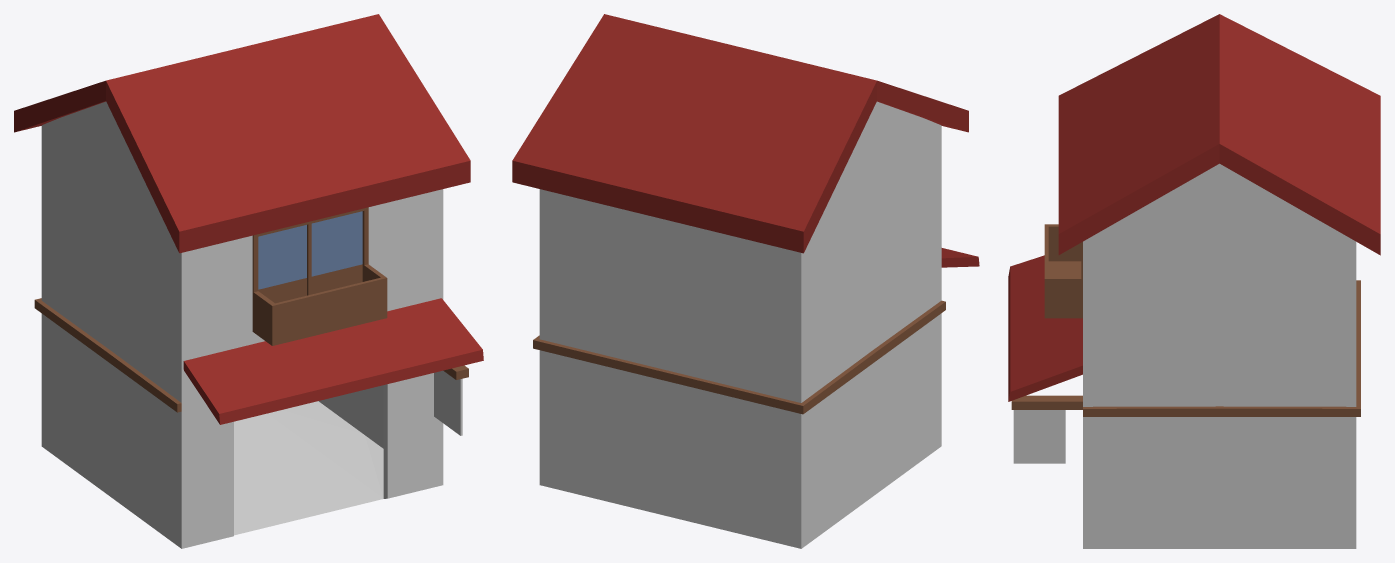
File: Bar.fbx
3 views of the same model, side by side, from view 1: azimuth 30°, elevation 25°; view 2: azimuth 150°, elevation 25°; view 3: azimuth 270°, elevation 25° (orthographic). The views are drawn at different scales.
Visible parts, largest first — view 1: Bar, Bar.001, Bar.002; view 2: Bar, Bar.001; view 3: Bar, Bar.001, Bar.002.
Boxes of the visible parts, box(x1,y1,x2,y2) form: Bar: box(41, 101, 443, 548); Bar.001: box(14, 14, 483, 424); Bar.002: box(434, 370, 462, 435); Bar: box(539, 101, 941, 548); Bar.001: box(512, 14, 979, 414); Bar: box(1083, 163, 1356, 548); Bar.001: box(1008, 14, 1380, 416); Bar.002: box(1013, 410, 1065, 463).
Bounding box in the file's own units: 537 × 743 × 609.
